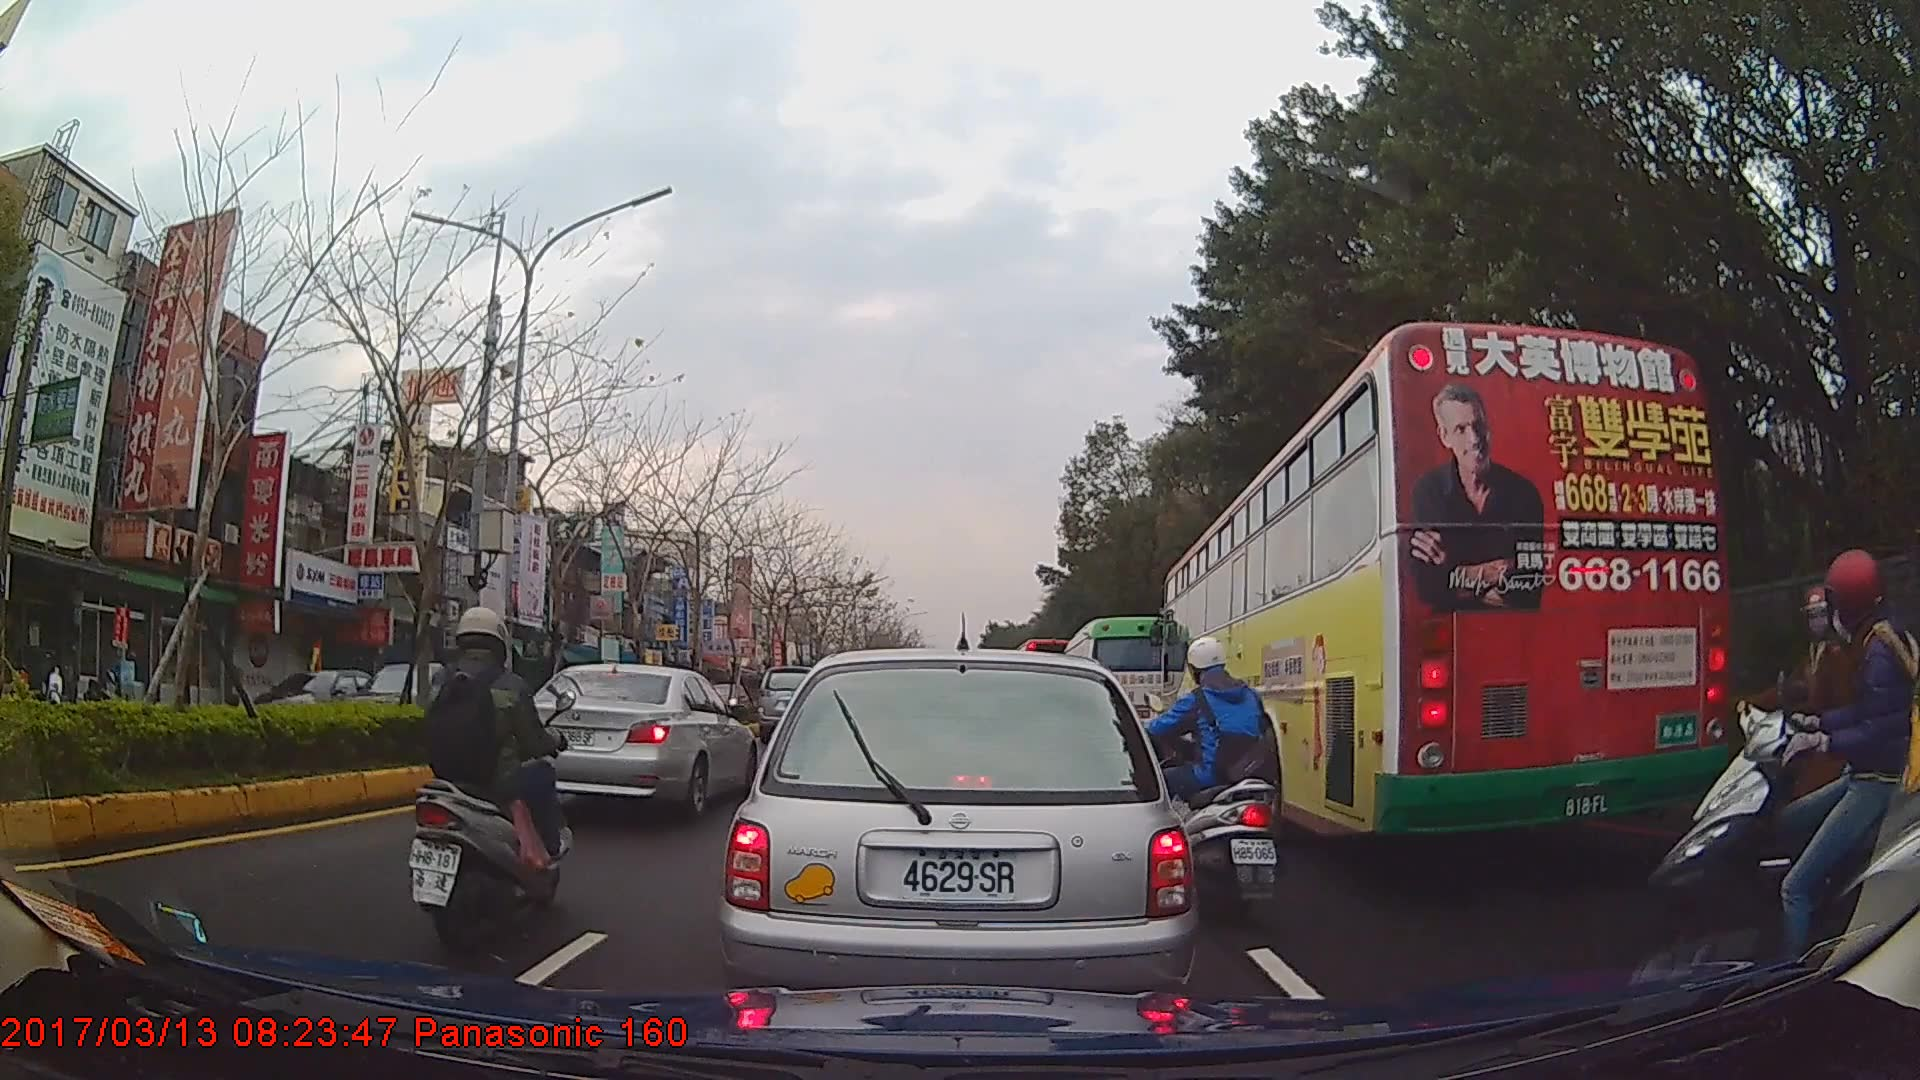rider: (1627, 550, 1920, 999), (407, 609, 572, 940), (1144, 635, 1283, 924)
vehicle: (1160, 319, 1727, 851), (716, 647, 1196, 1030), (512, 660, 755, 819), (1058, 616, 1187, 763), (234, 661, 414, 735)
